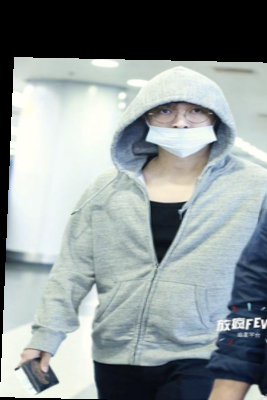mask_weared_incorrect: (119, 61, 249, 172)
